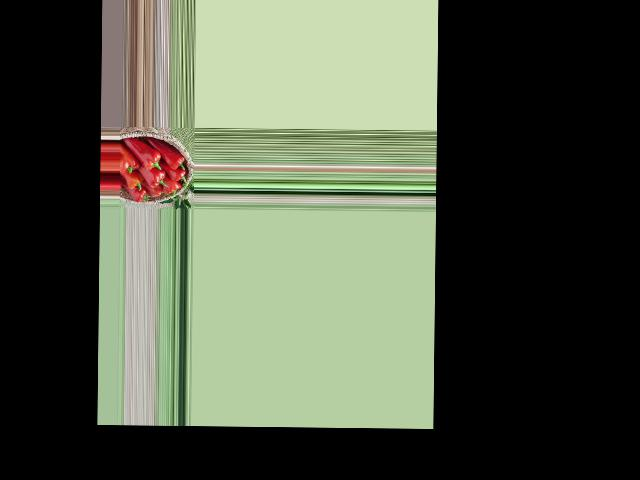bell_pepper: (168, 167, 189, 184)
